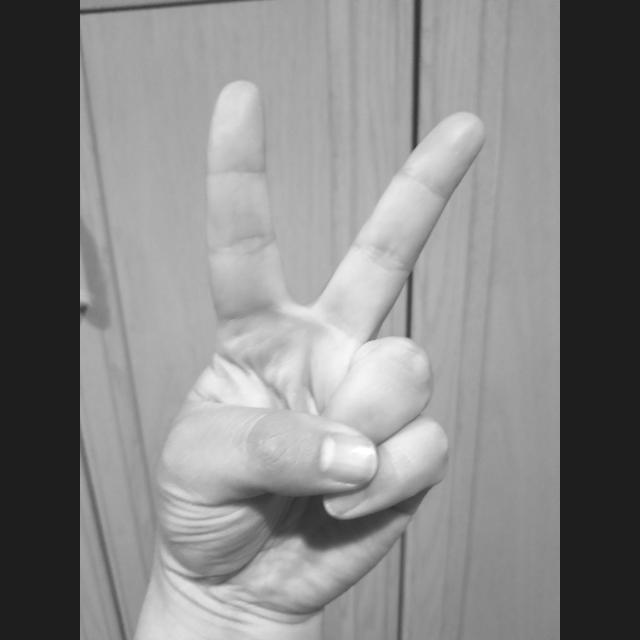V: (140, 72, 500, 616)
